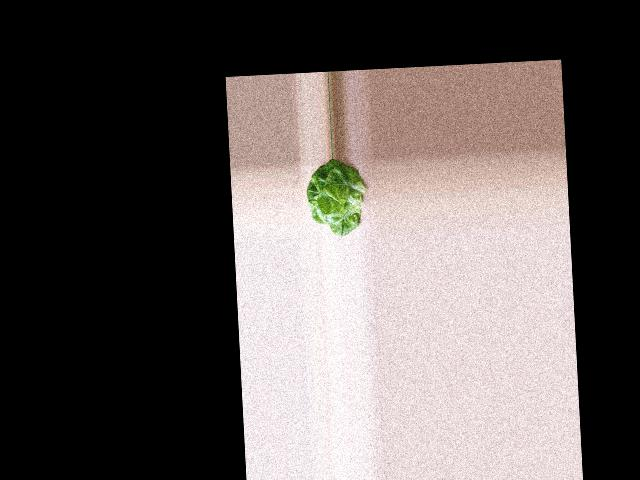lettuce: (305, 159, 366, 235)
